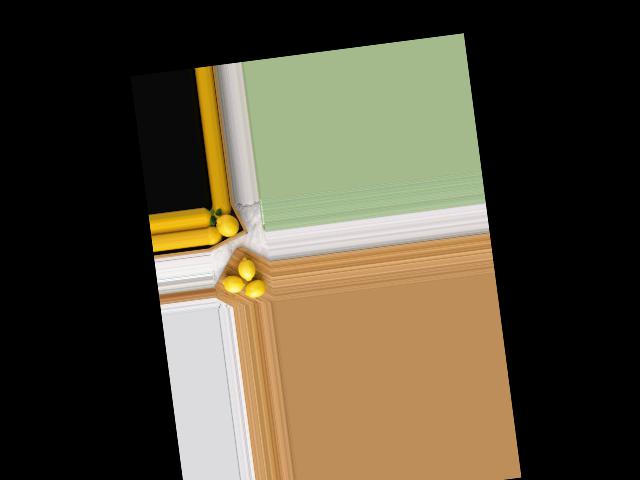lemon: (242, 273, 271, 300)
